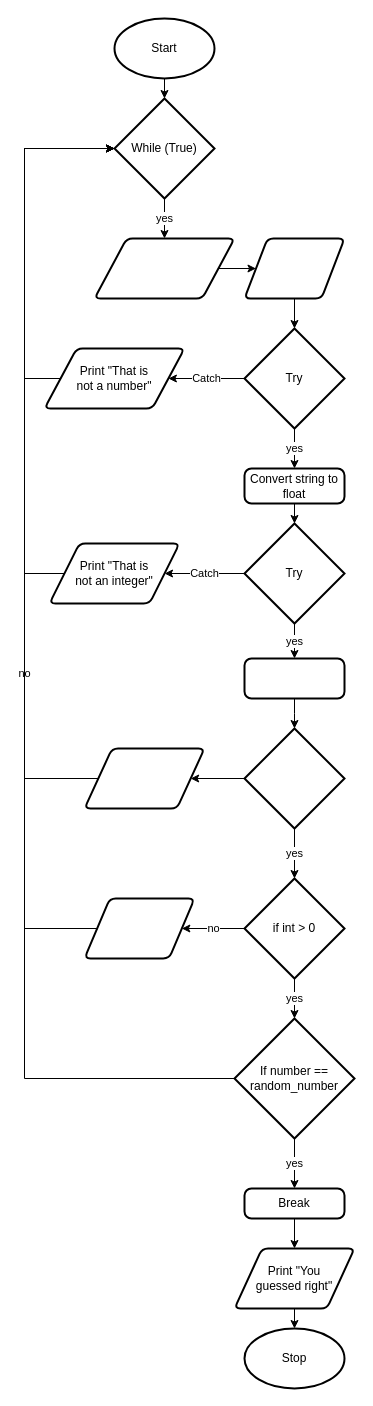
The diagram is 373 pixels wide and 1406 high, and some of its shapes have lost their labels. The centre of each missing label's shape, as x and y in pixels:
convert string to integer: point 294,678
Generate random_number: point 164,268
Get number: point 294,268
if int <= 9: point 294,778
Print "Number is out of range": point 144,778
Print "That is not positive": point 139,928
